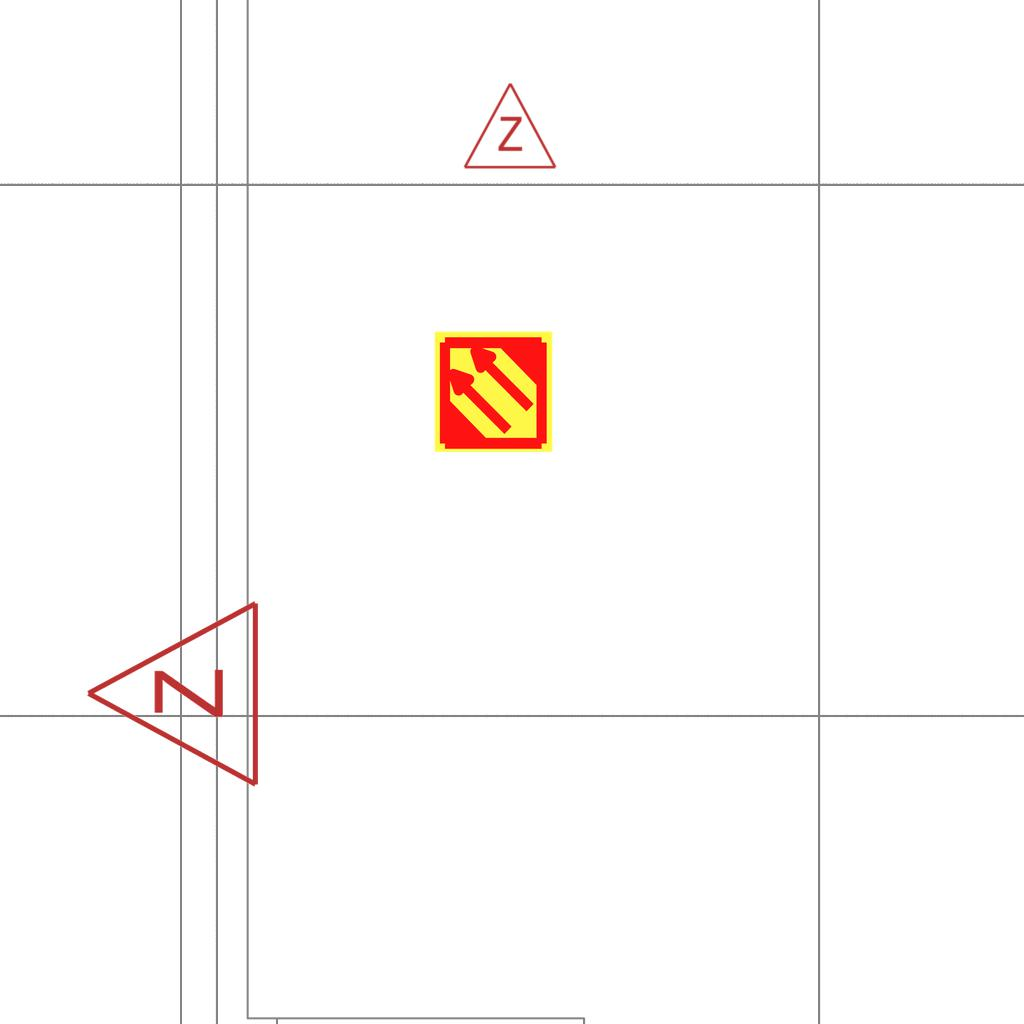ASR_Ansaugrauchmelder: (431, 329, 556, 454)
Zimmersignalleuchte: (73, 598, 273, 794), (460, 76, 558, 176)
